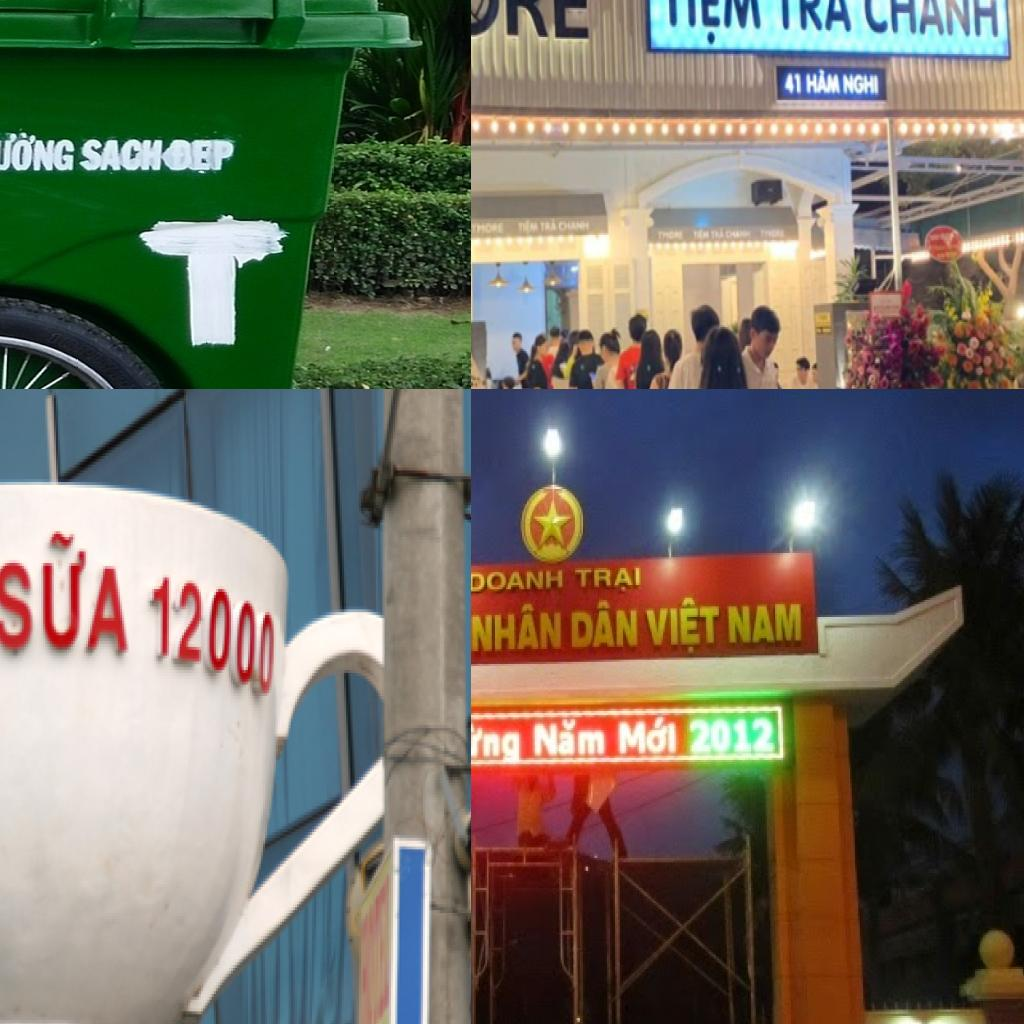text: (146, 560, 286, 714), (134, 214, 290, 352), (0, 525, 135, 667), (860, 0, 1002, 40), (652, 0, 767, 47), (471, 601, 563, 655), (642, 598, 722, 655), (570, 600, 641, 653), (0, 129, 79, 174), (771, 0, 857, 40), (690, 717, 775, 756), (727, 604, 804, 647), (77, 138, 166, 174), (533, 719, 607, 760), (471, 565, 565, 595), (618, 717, 679, 756), (471, 721, 522, 766), (574, 564, 642, 596), (805, 71, 843, 100), (842, 71, 881, 98), (471, 222, 507, 238), (783, 73, 805, 98), (558, 220, 592, 235), (514, 220, 541, 238), (655, 230, 686, 245), (726, 230, 754, 242), (691, 228, 711, 244), (540, 220, 560, 235), (760, 230, 785, 242), (711, 228, 727, 242)
